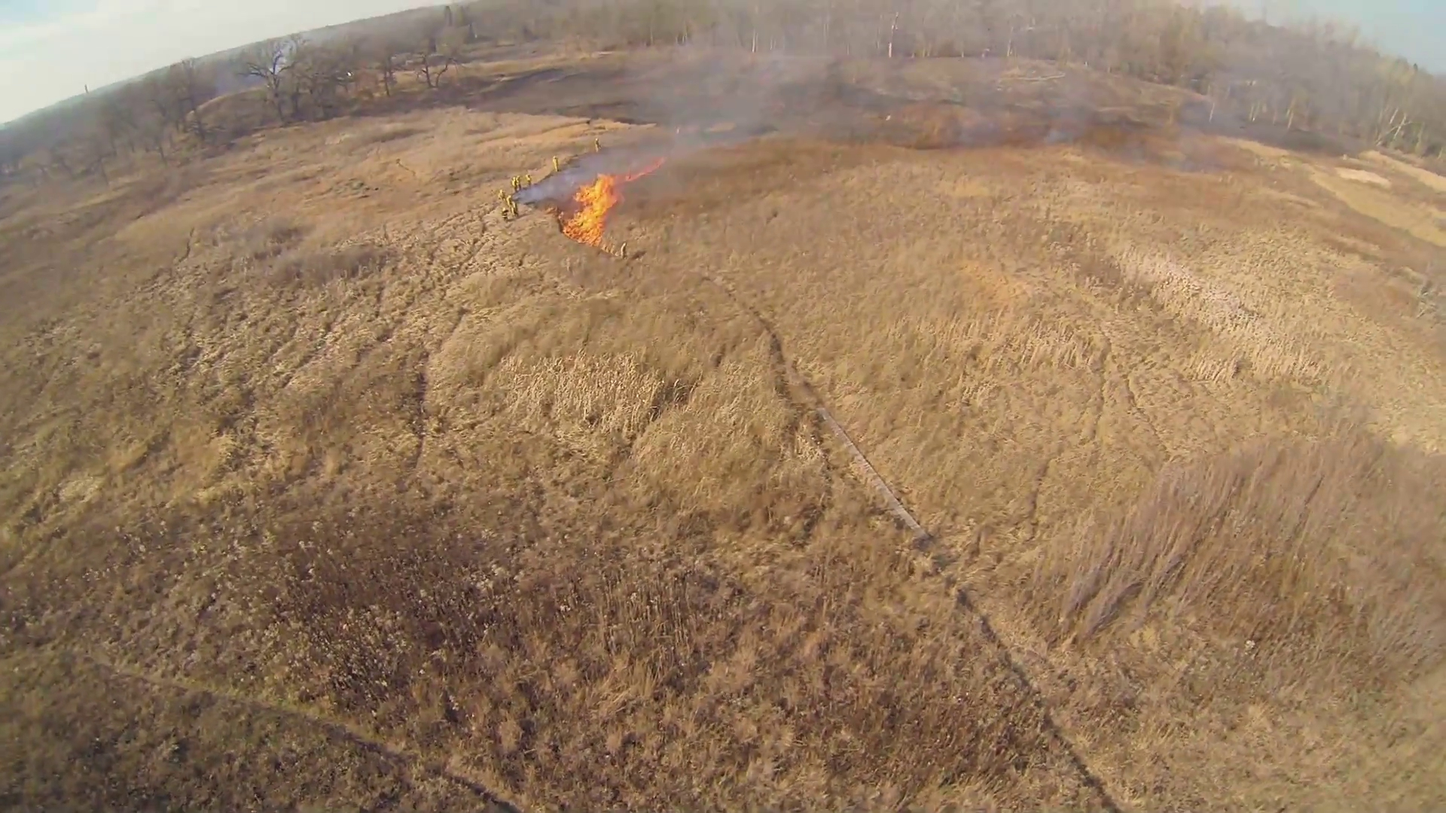forest_fire: (562, 158, 664, 256)
